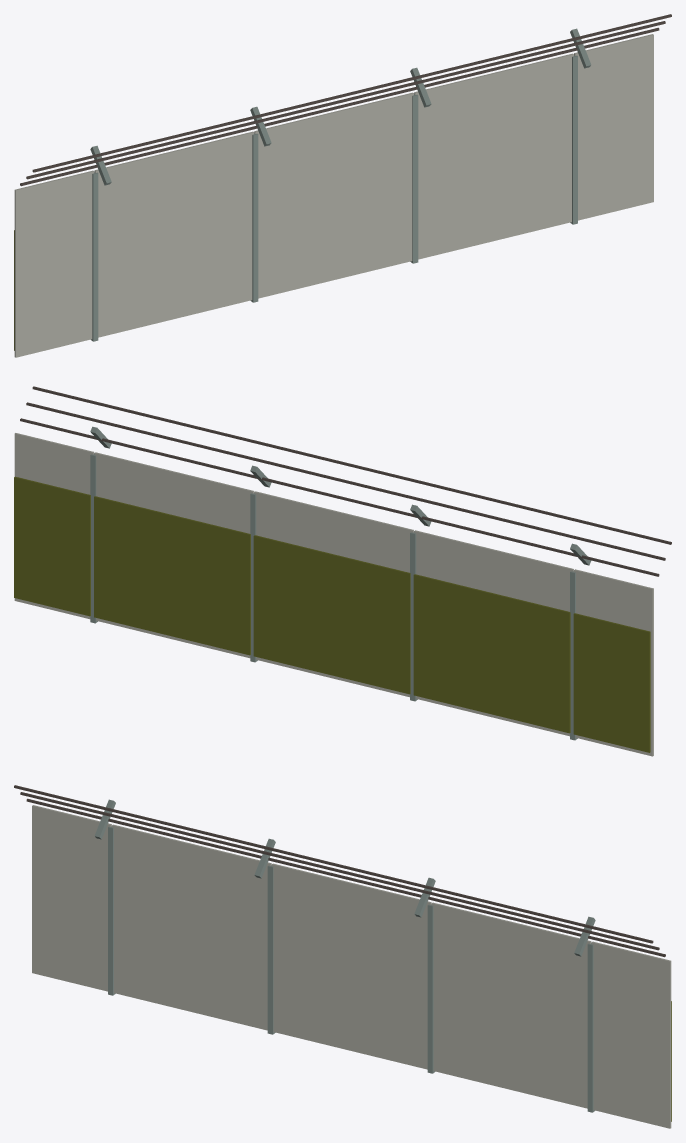
The model's file is SM_VallaBase_v3_LOD0.fbx.
3 renders of one model, top to bottom at view 1: azimuth 30°, elevation 25°; view 2: azimuth 150°, elevation 25°; view 3: azimuth 330°, elevation 25°, orthographic.
Visible parts, largest first — view 1: SM_valla_base_v3_LOD0; view 2: SM_valla_base_v3_LOD0; view 3: SM_valla_base_v3_LOD0.
Boxes of the visible parts, left/top/right/bottom form: SM_valla_base_v3_LOD0: left=14, top=14, right=671, bottom=357; SM_valla_base_v3_LOD0: left=14, top=386, right=671, bottom=756; SM_valla_base_v3_LOD0: left=14, top=785, right=671, bottom=1128.
Bounding box in the file's own units: 9.98 × 3.03 × 0.57.
